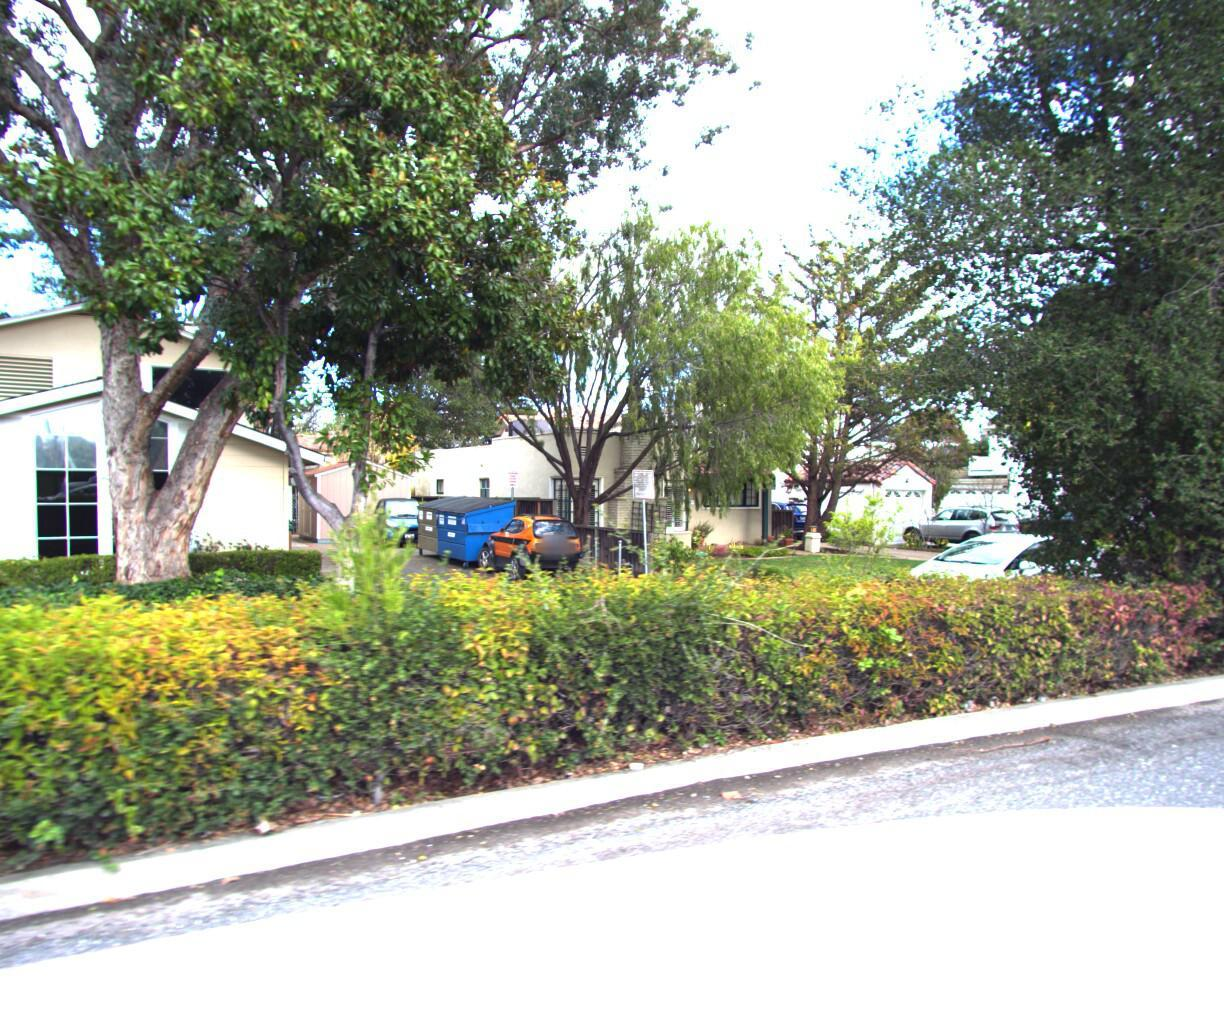car: (881, 530, 1141, 637), (468, 510, 599, 588), (894, 506, 1031, 554), (718, 501, 827, 546), (363, 499, 434, 552)
